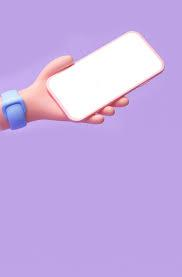Hand: (24, 51, 144, 135)
Smartphone: (63, 25, 155, 128)
